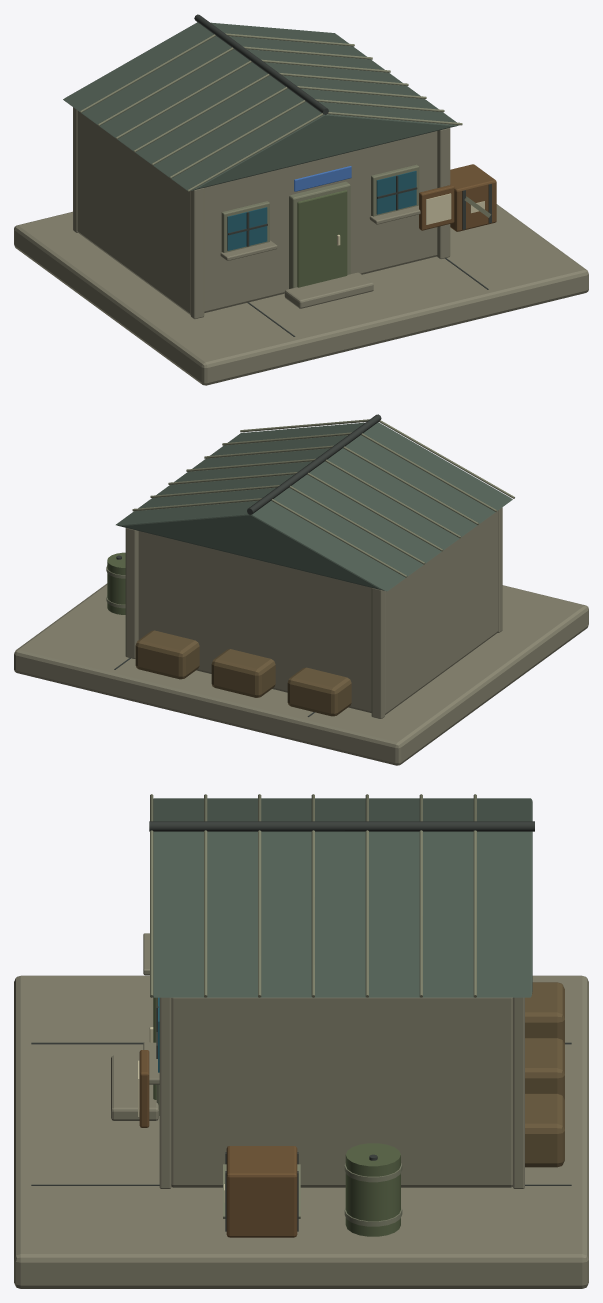
File: barracks.glb
3 views of the same model, one above another, from view 1: azimuth 30°, elevation 25°; view 2: azimuth 150°, elevation 25°; view 3: azimuth 270°, elevation 25° (orthographic). The views are drawn at different scales.
Parts seen in each view (by area): view 1: Concrete, RoofMetal, EdgeSteel, Armor, Timber, Optics, Steel, Markings, TeamColor; view 2: Concrete, RoofMetal, Canvas, EdgeSteel, Steel, Armor; view 3: Concrete, RoofMetal, Timber, Canvas, EdgeSteel, Steel, Armor.
Part boxes in pixels (x1=…): Concrete: x1=14, y1=107, x2=588, y2=385; RoofMetal: x1=63, y1=22, x2=458, y2=190; EdgeSteel: x1=80, y1=33, x2=491, y2=288; Armor: x1=297, y1=190, x2=347, y2=287; Timber: x1=419, y1=164, x2=496, y2=231; Optics: x1=227, y1=171, x2=416, y2=250; Steel: x1=194, y1=14, x2=491, y2=336; Markings: x1=337, y1=193, x2=484, y2=245; TeamColor: x1=294, y1=166, x2=351, y2=191; Concrete: x1=14, y1=507, x2=588, y2=765; RoofMetal: x1=116, y1=422, x2=512, y2=591; Canvas: x1=135, y1=630, x2=351, y2=716; EdgeSteel: x1=106, y1=419, x2=514, y2=608; Steel: x1=114, y1=414, x2=381, y2=716; Armor: x1=107, y1=552, x2=125, y2=614; Concrete: x1=14, y1=933, x2=588, y2=1288; RoofMetal: x1=153, y1=798, x2=532, y2=997; Timber: x1=139, y1=1050, x2=297, y2=1237; Canvas: x1=525, y1=982, x2=564, y2=1167; EdgeSteel: x1=150, y1=794, x2=476, y2=1226; Steel: x1=31, y1=821, x2=571, y2=1231; Armor: x1=153, y1=997, x2=400, y2=1236.
Size of the model in its own units: 5.6 by 2.84 by 4.8.
